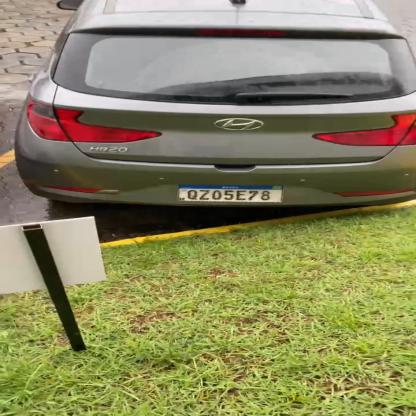Plate: (174, 179, 286, 207)
